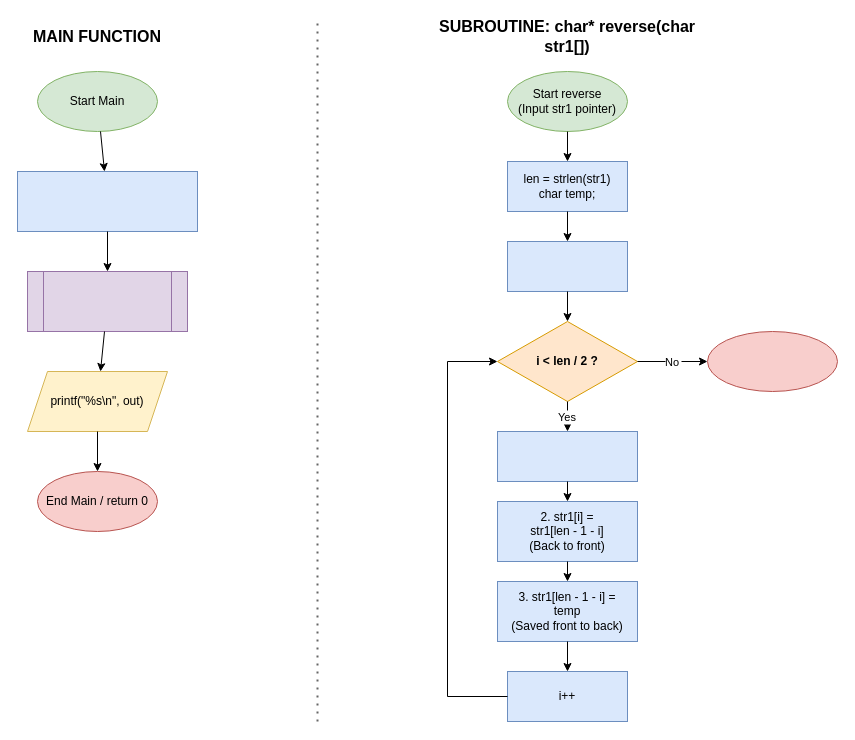
This 855x740 diagram has some shape labels left out. The centre of each missing label's shape, as x and y in pixels:
1. temp = str1[i] (Save front): the point at 567,456
char text[50]="I Love You" char *out;: the point at 107,201
int i = 0: the point at 567,266
out = reverse(text) (Modifies text in place): the point at 107,301
Return str1: the point at 772,361
